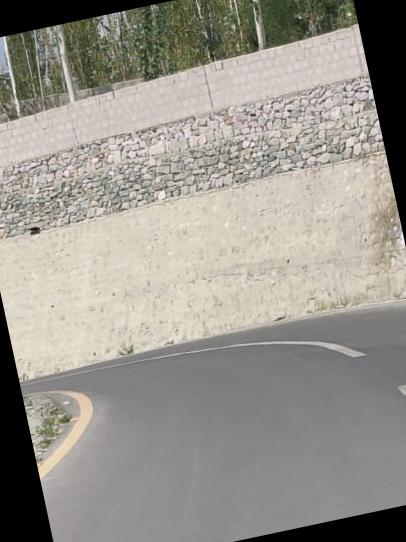left_turn: (2, 218, 406, 501)
